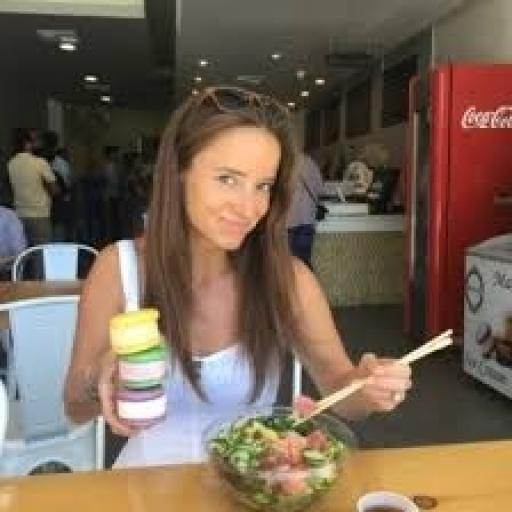eating: (59, 80, 414, 466)
